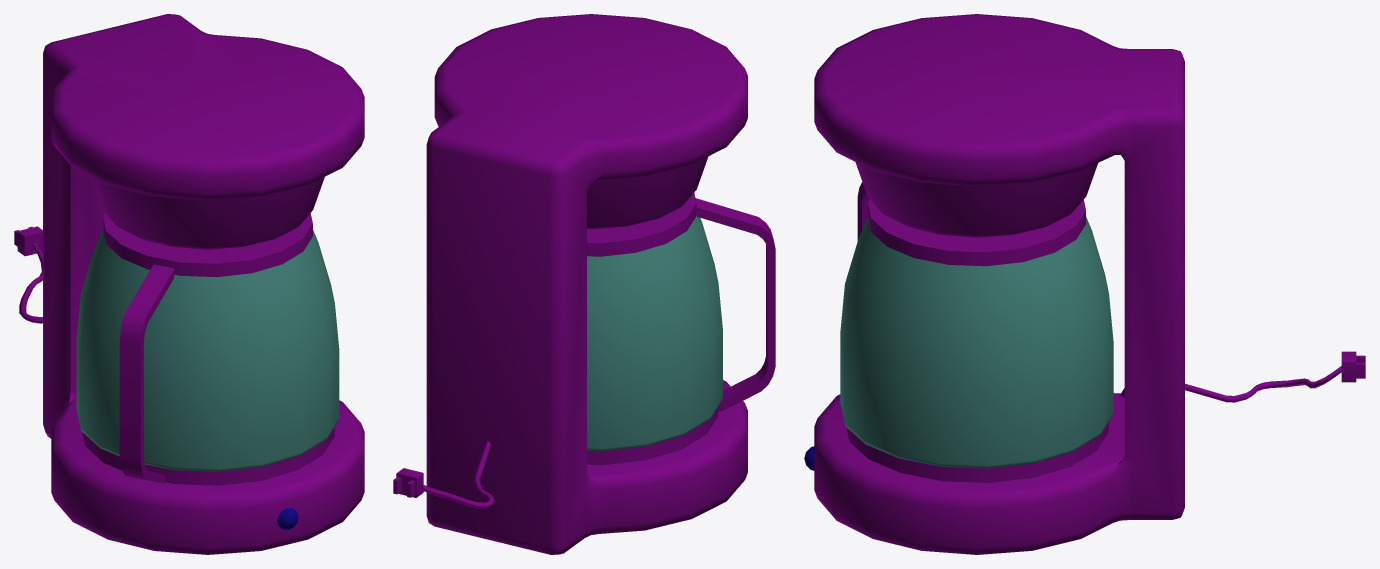
Rendered from SM_Coffee_Machine.fbx.
3 views of the same model, side by side, from view 1: azimuth 30°, elevation 25°; view 2: azimuth 150°, elevation 25°; view 3: azimuth 270°, elevation 25° (orthographic). The views are drawn at different scales.
Visible parts, largest first — view 1: SM_Coffee_Machine; view 2: SM_Coffee_Machine; view 3: SM_Coffee_Machine.
Part boxes in pixels (x1=…): SM_Coffee_Machine: x1=14, y1=14, x2=364, y2=554; SM_Coffee_Machine: x1=393, y1=14, x2=775, y2=554; SM_Coffee_Machine: x1=804, y1=14, x2=1365, y2=554.
Size of the model in its own units: 36 by 49.24 by 61.12.
